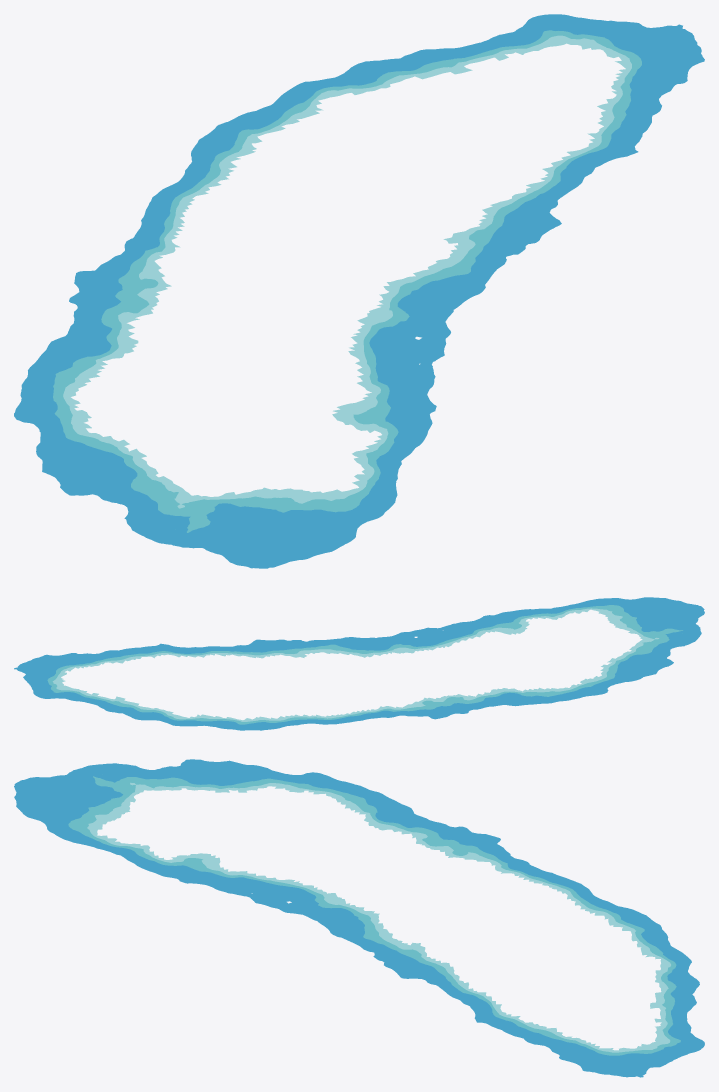
Rendered from Isl-long1-Water.fbx.
The picture shows the model from 3 angles, top to bottom: view 1: azimuth 30°, elevation 25°; view 2: azimuth 150°, elevation 25°; view 3: azimuth 270°, elevation 25°; orthographic projection. The views are drawn at different scales.
Parts seen in each view (by area): view 1: Isl-long1-Water; view 2: Isl-long1-Water; view 3: Isl-long1-Water.
Part boxes in pixels (left/top/right/bottom): Isl-long1-Water: left=14, top=14, right=704, bottom=568; Isl-long1-Water: left=14, top=597, right=704, bottom=730; Isl-long1-Water: left=14, top=759, right=704, bottom=1077.
Size of the model in its own units: 160 by 0 by 147.
